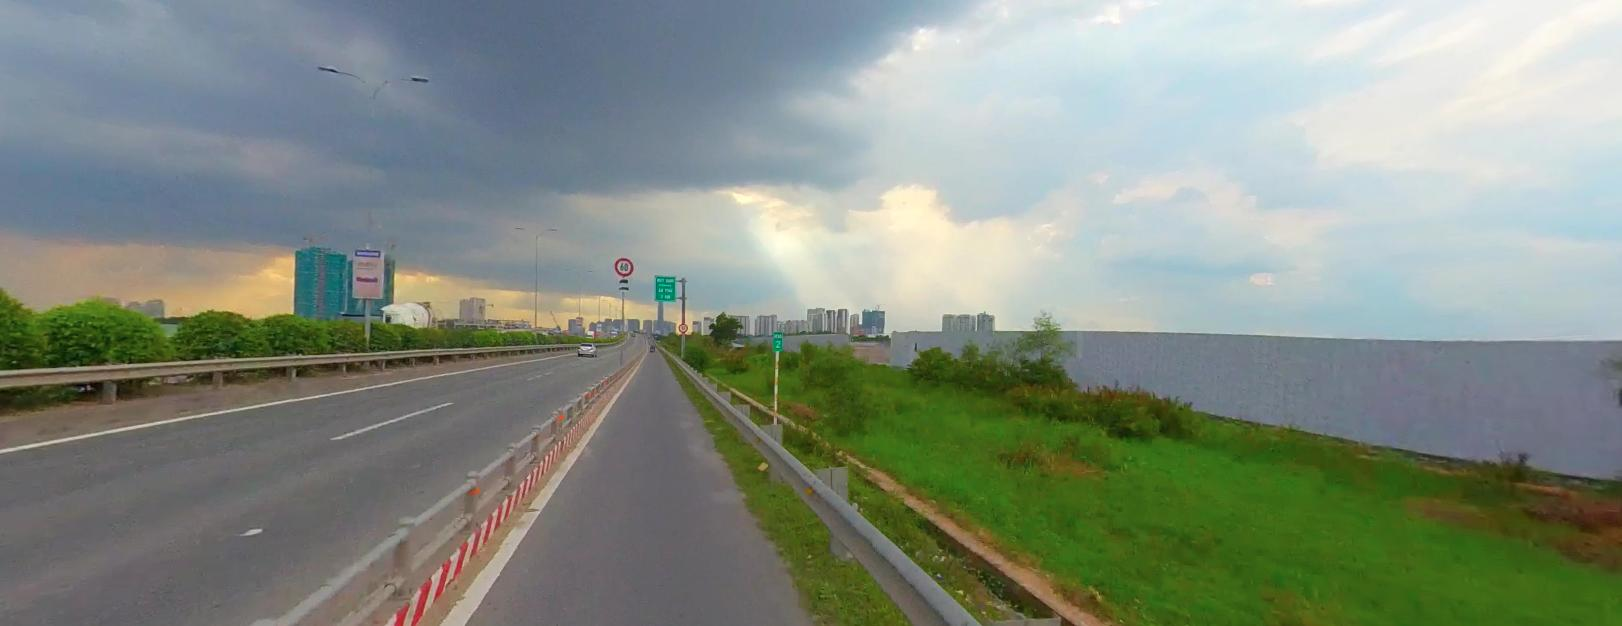Gioi han toc do: (613, 255, 633, 274), (678, 322, 689, 333)
